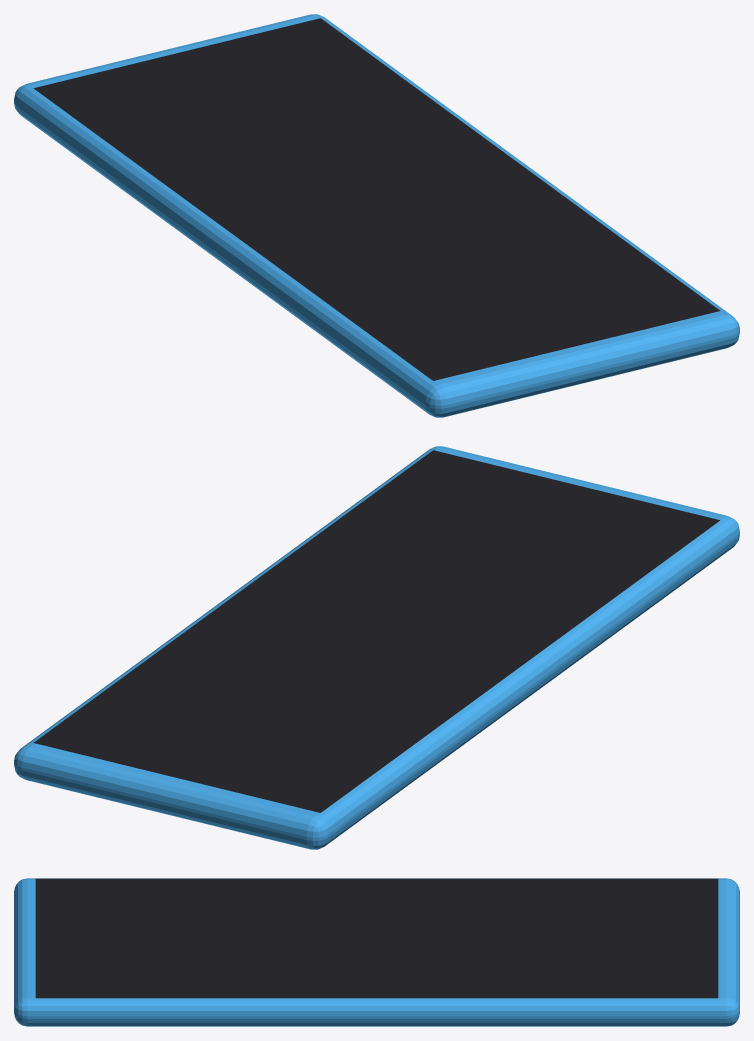
File: Phone_991.glb
3 views of the same model, one above another, from view 1: azimuth 30°, elevation 25°; view 2: azimuth 150°, elevation 25°; view 3: azimuth 270°, elevation 25° (orthographic). The views are drawn at different scales.
Parts seen in each view (by area): view 1: Phone_Screen, Phone_Body; view 2: Phone_Screen, Phone_Body; view 3: Phone_Screen, Phone_Body.
Part boxes in pixels (x1,y1,x2,y2): Phone_Screen: [34, 18, 720, 380]; Phone_Body: [14, 14, 739, 417]; Phone_Screen: [33, 450, 719, 812]; Phone_Body: [14, 446, 739, 849]; Phone_Screen: [35, 878, 718, 998]; Phone_Body: [14, 878, 739, 1026].
Bounding box in the file's own units: 0.0718 × 0.0071 × 0.1694.
